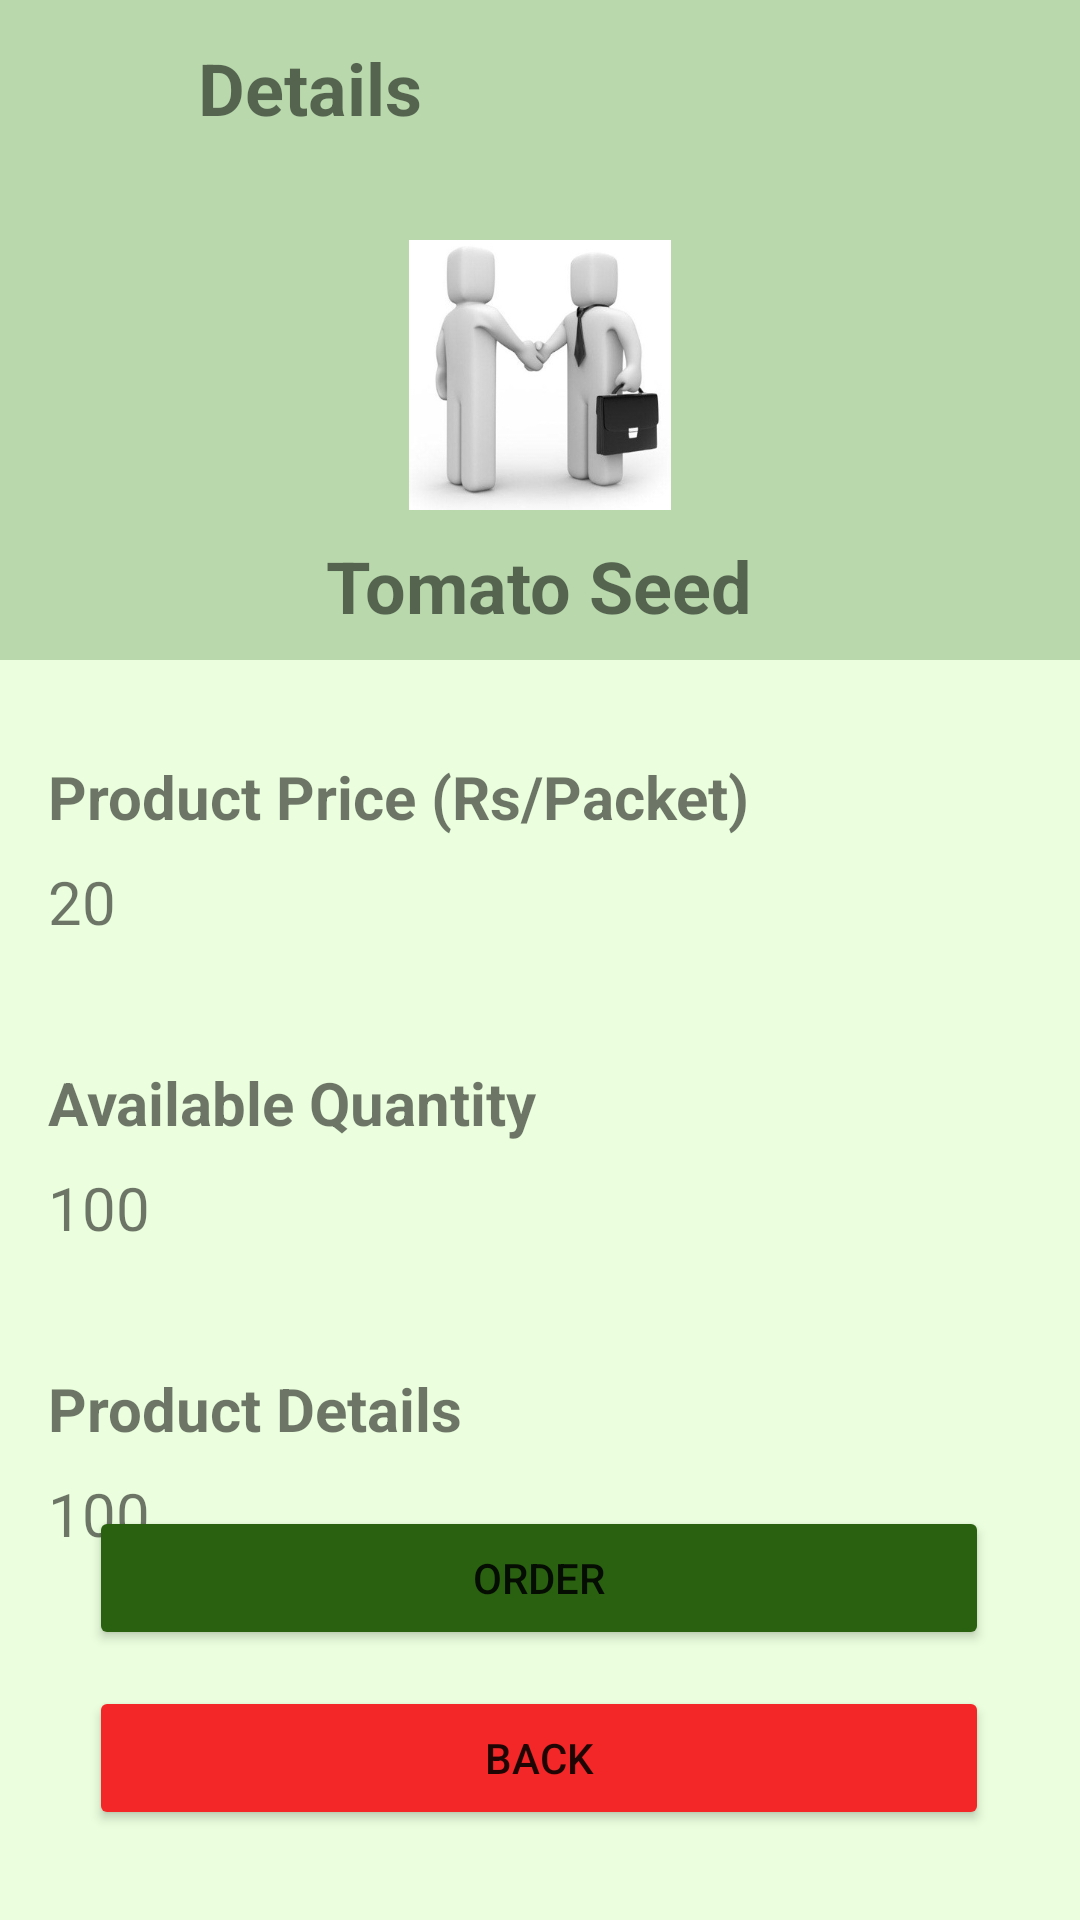

Point at icon controls on the screen. Image size 1080×1920, points as [x,y].
vendor: [540,375]
